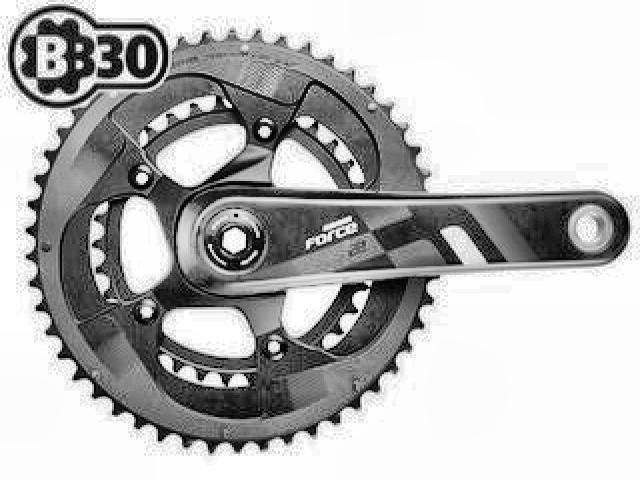cranks_set: (25, 29, 630, 457)
